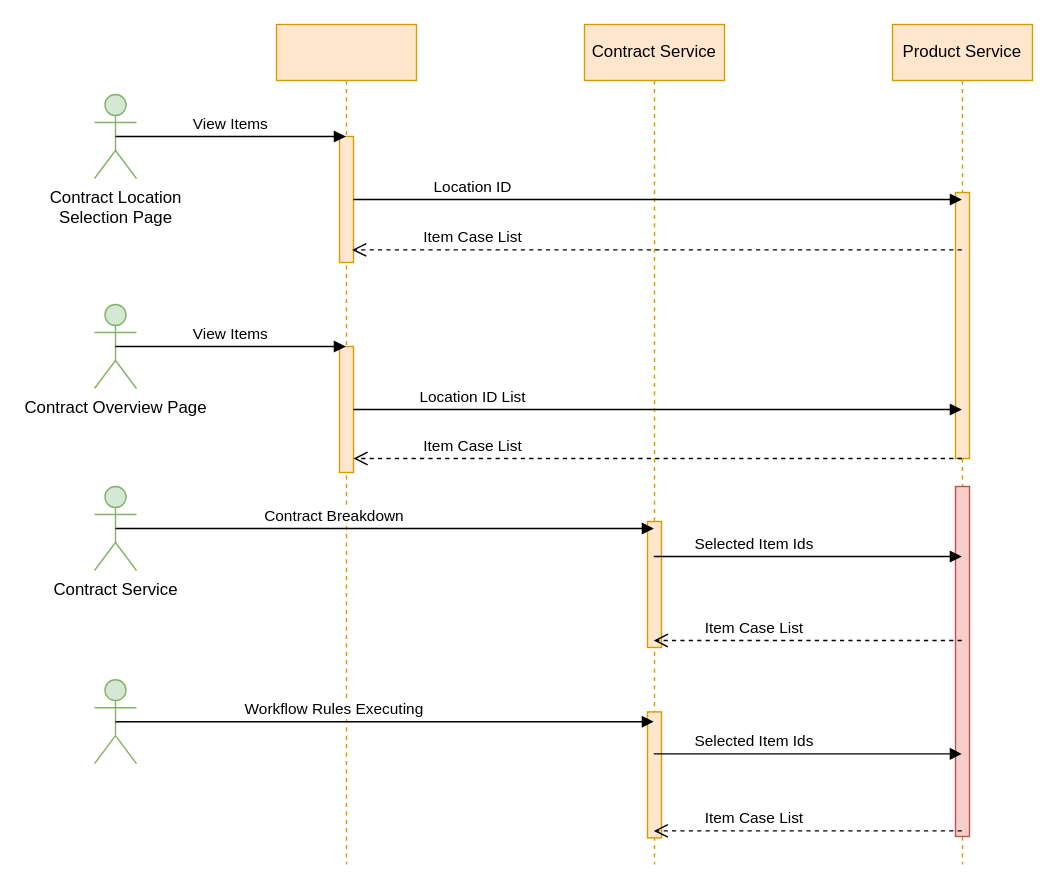
Some shapes in this 1057 by 889 pixel diagram are drawn without their labels. The centre of each missing label's shape, as x and y in pixels:
"UI" belongs at point (345, 443).
"Workflow Engine" belongs at point (114, 721).
